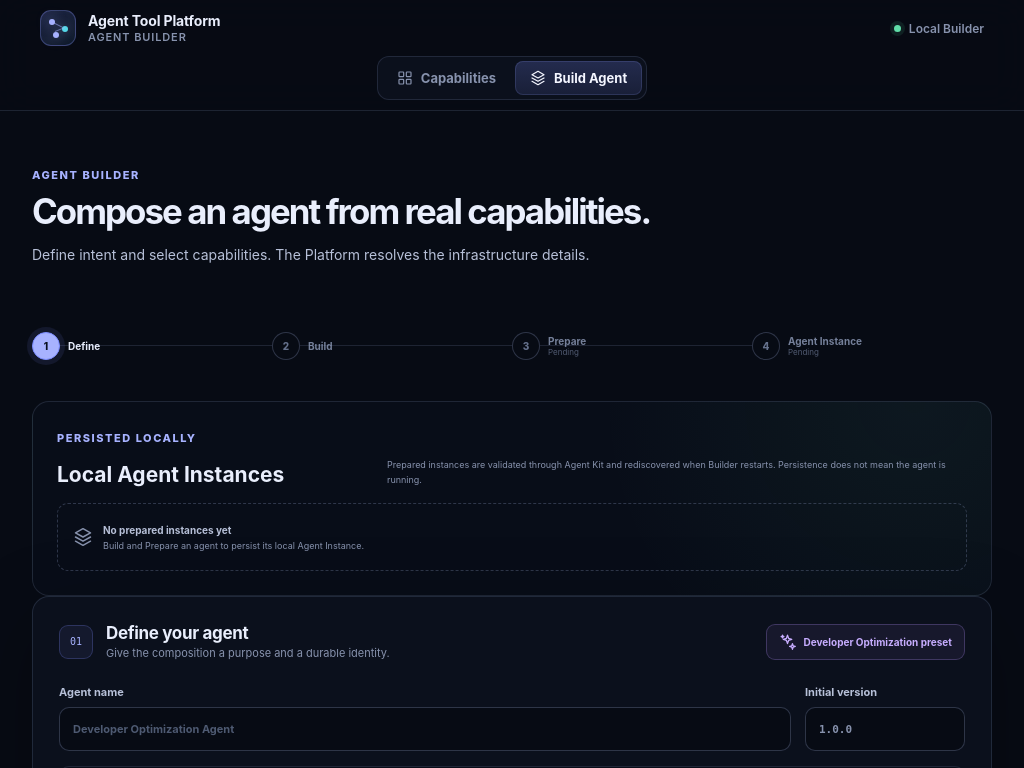
Test: Agent Builder UI › keeps Automatic profile-free in the canonical Build request
Type "Research Agent" into the field labelled "Agent name" at {"x": 425, "y": 729}, box [59, 707, 791, 751]
(page scrolled)
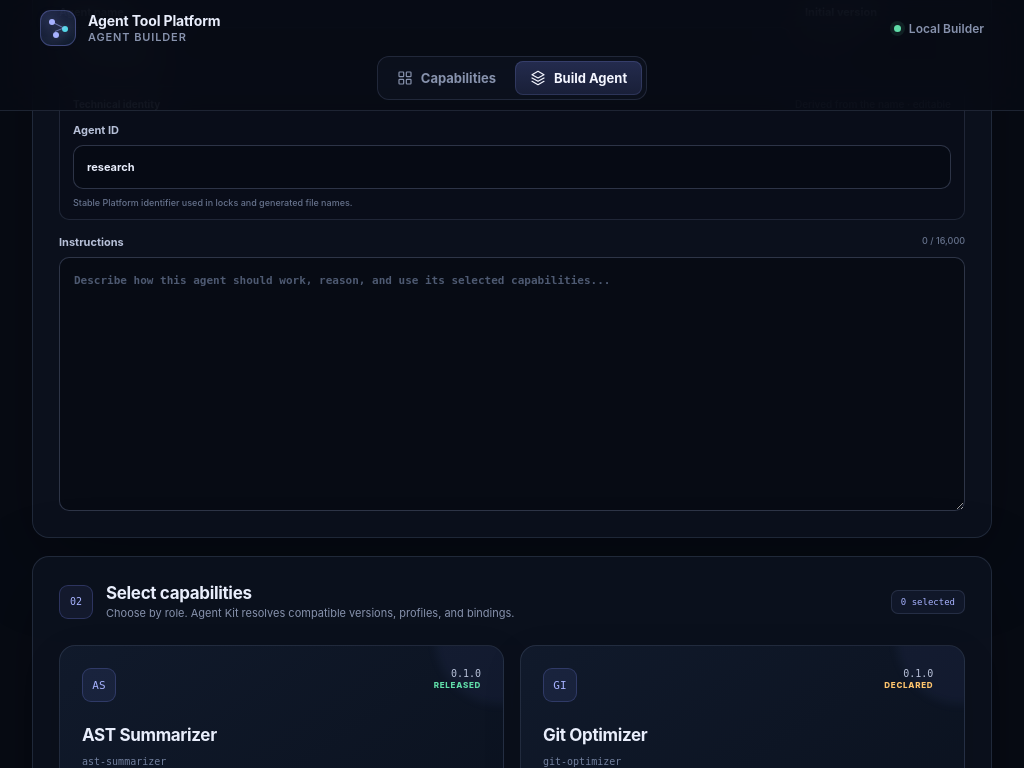
Type "Use bounded evidence." into the text box labelled "Instructions 0 / 16,000" at {"x": 512, "y": 384}, box [59, 257, 965, 511]
(page scrolled)
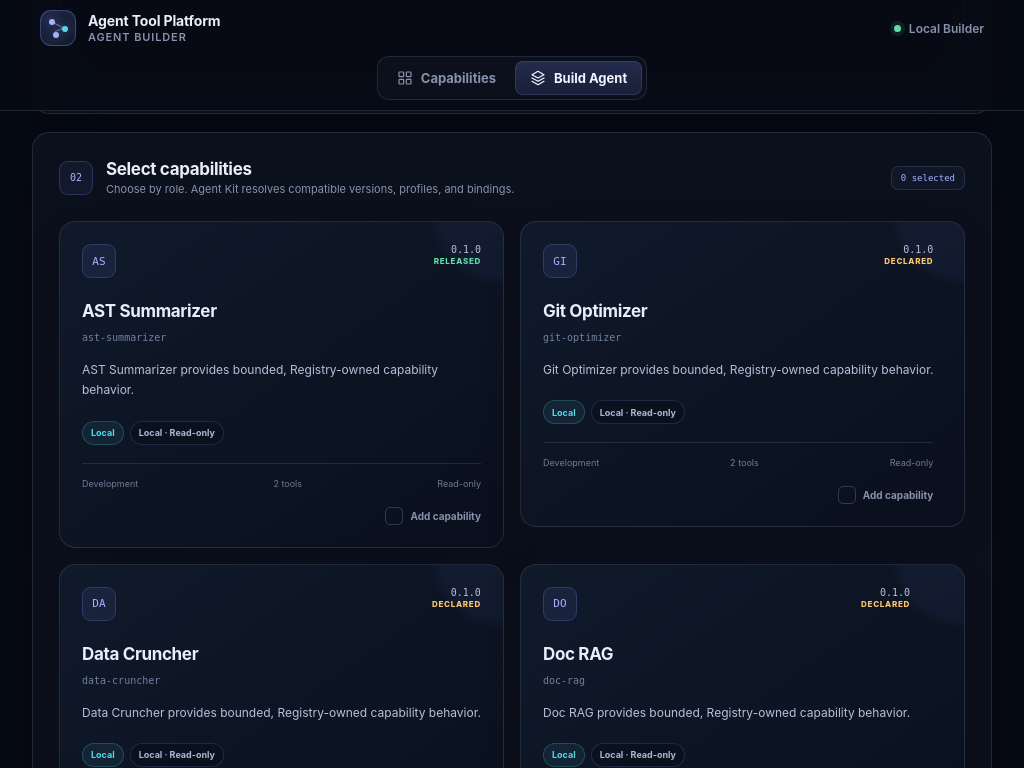
Click the button "AST Summarizer" at {"x": 99, "y": 261}, box [60, 222, 503, 547]
(page scrolled)
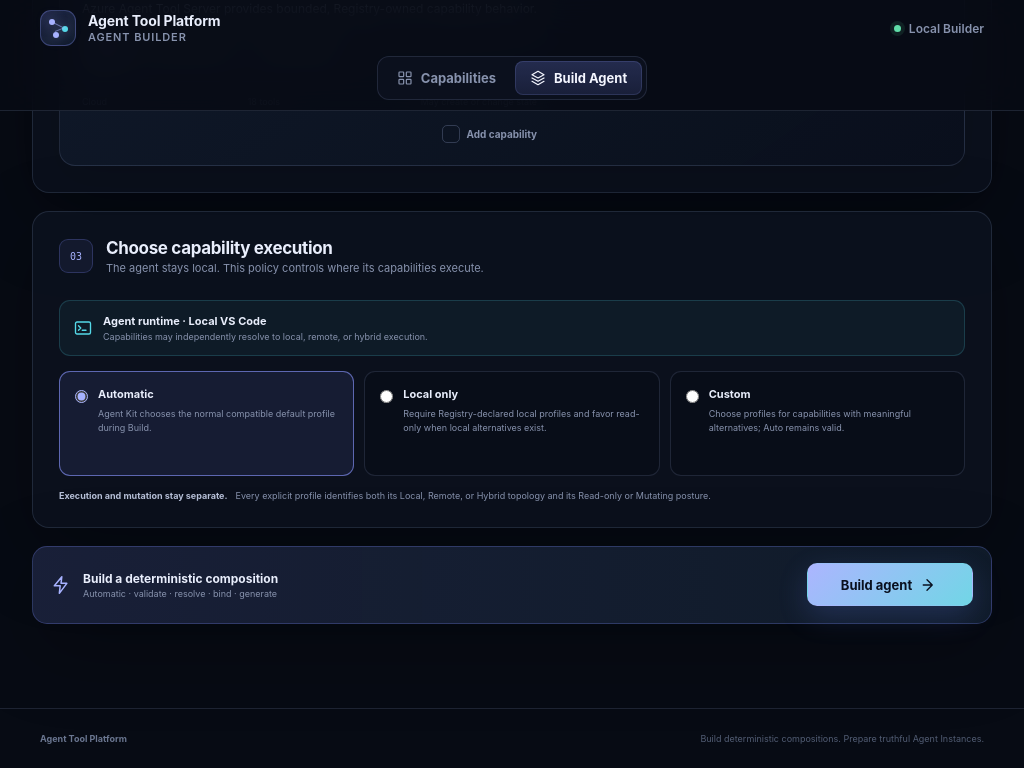
Click the button "Build agent" at {"x": 890, "y": 585}, box [807, 563, 973, 606]
(page scrolled)
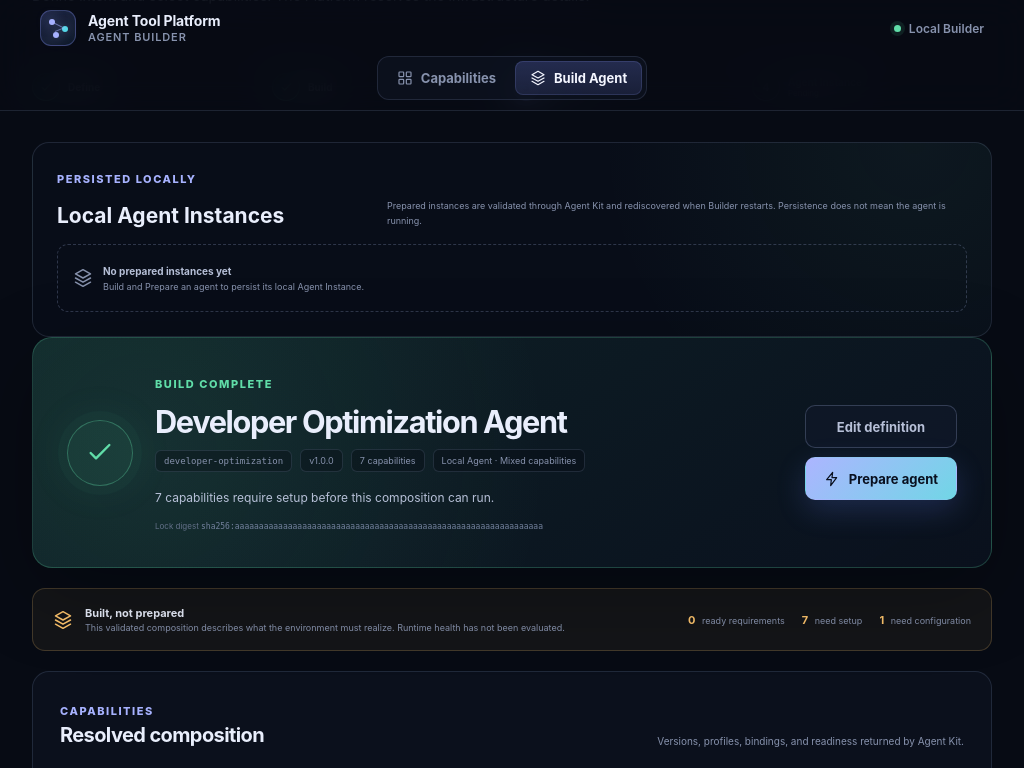
Expected: the text "Build complete" is shown, [155, 377, 273, 391]
